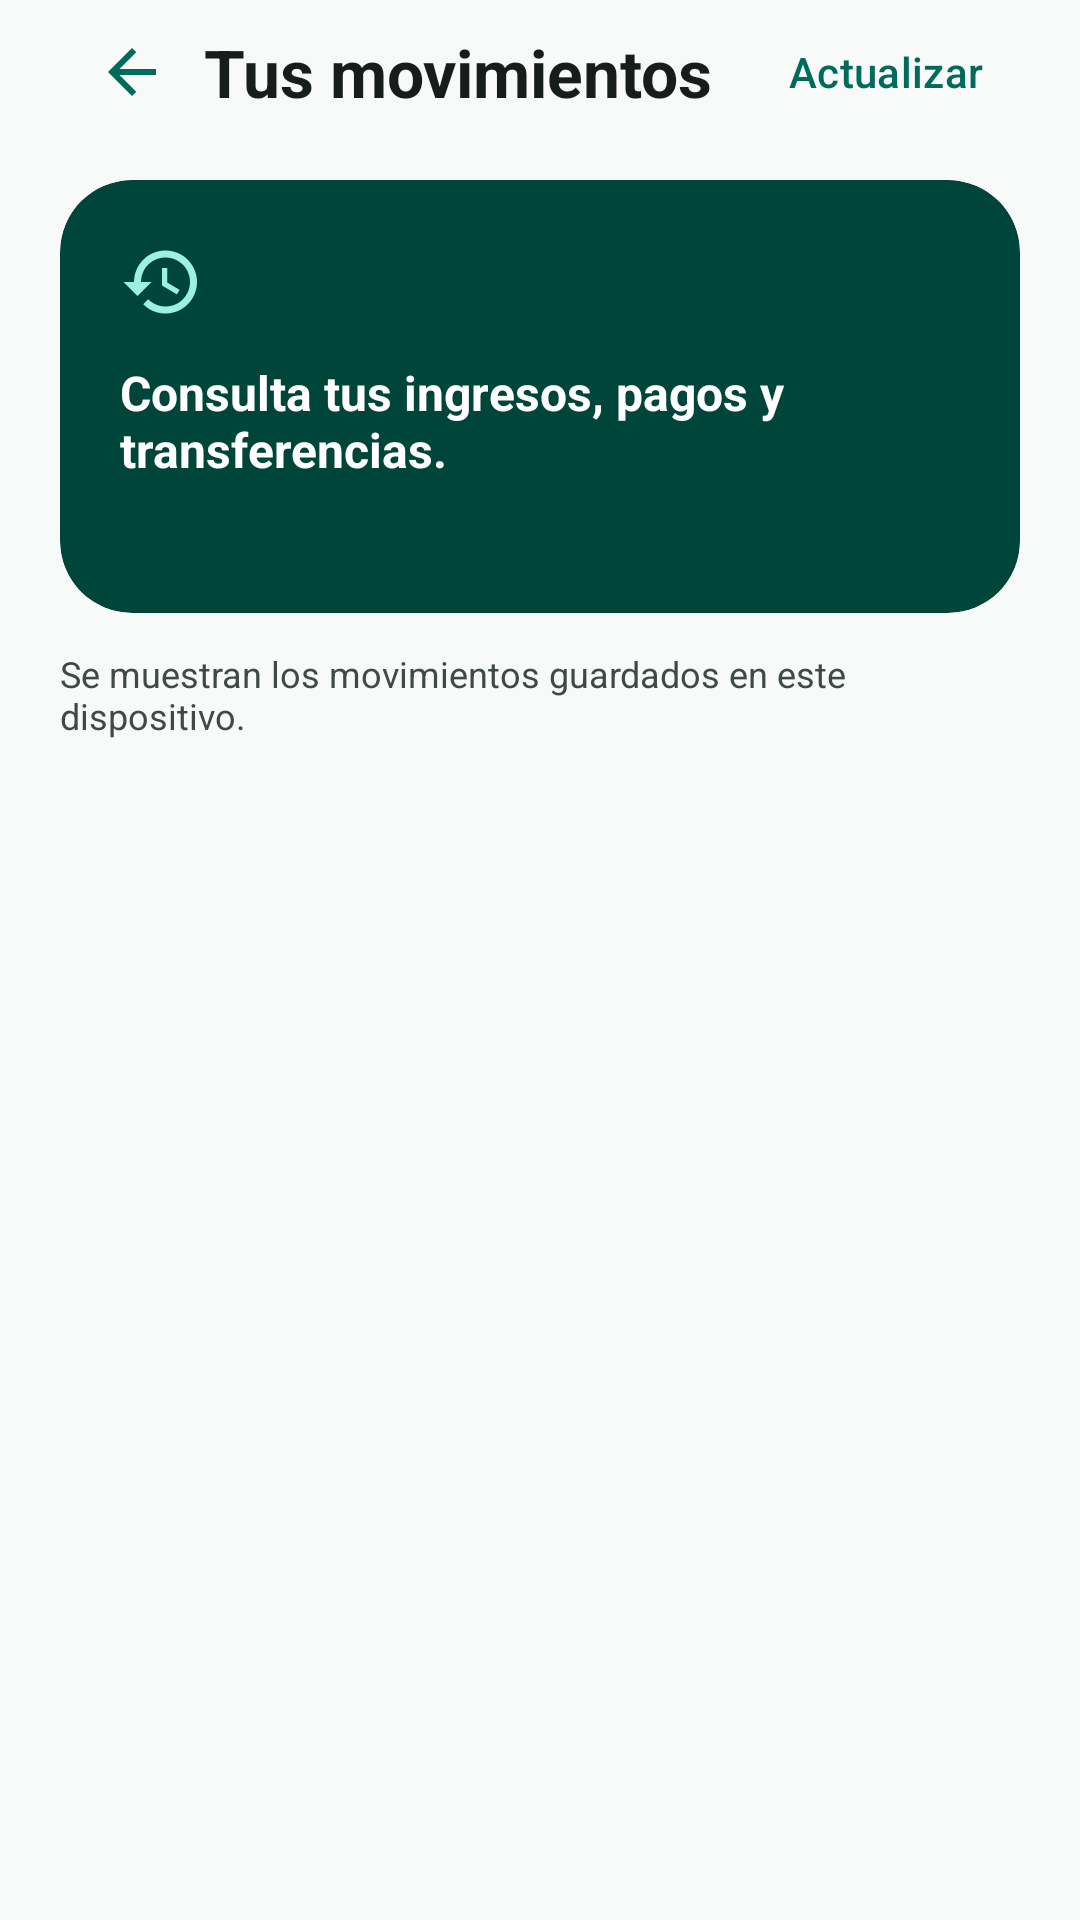

Point at icon controls on the screen. Image size 1080×1920, points as [x,y].
history: [160,282]
Volver: [132,72]
